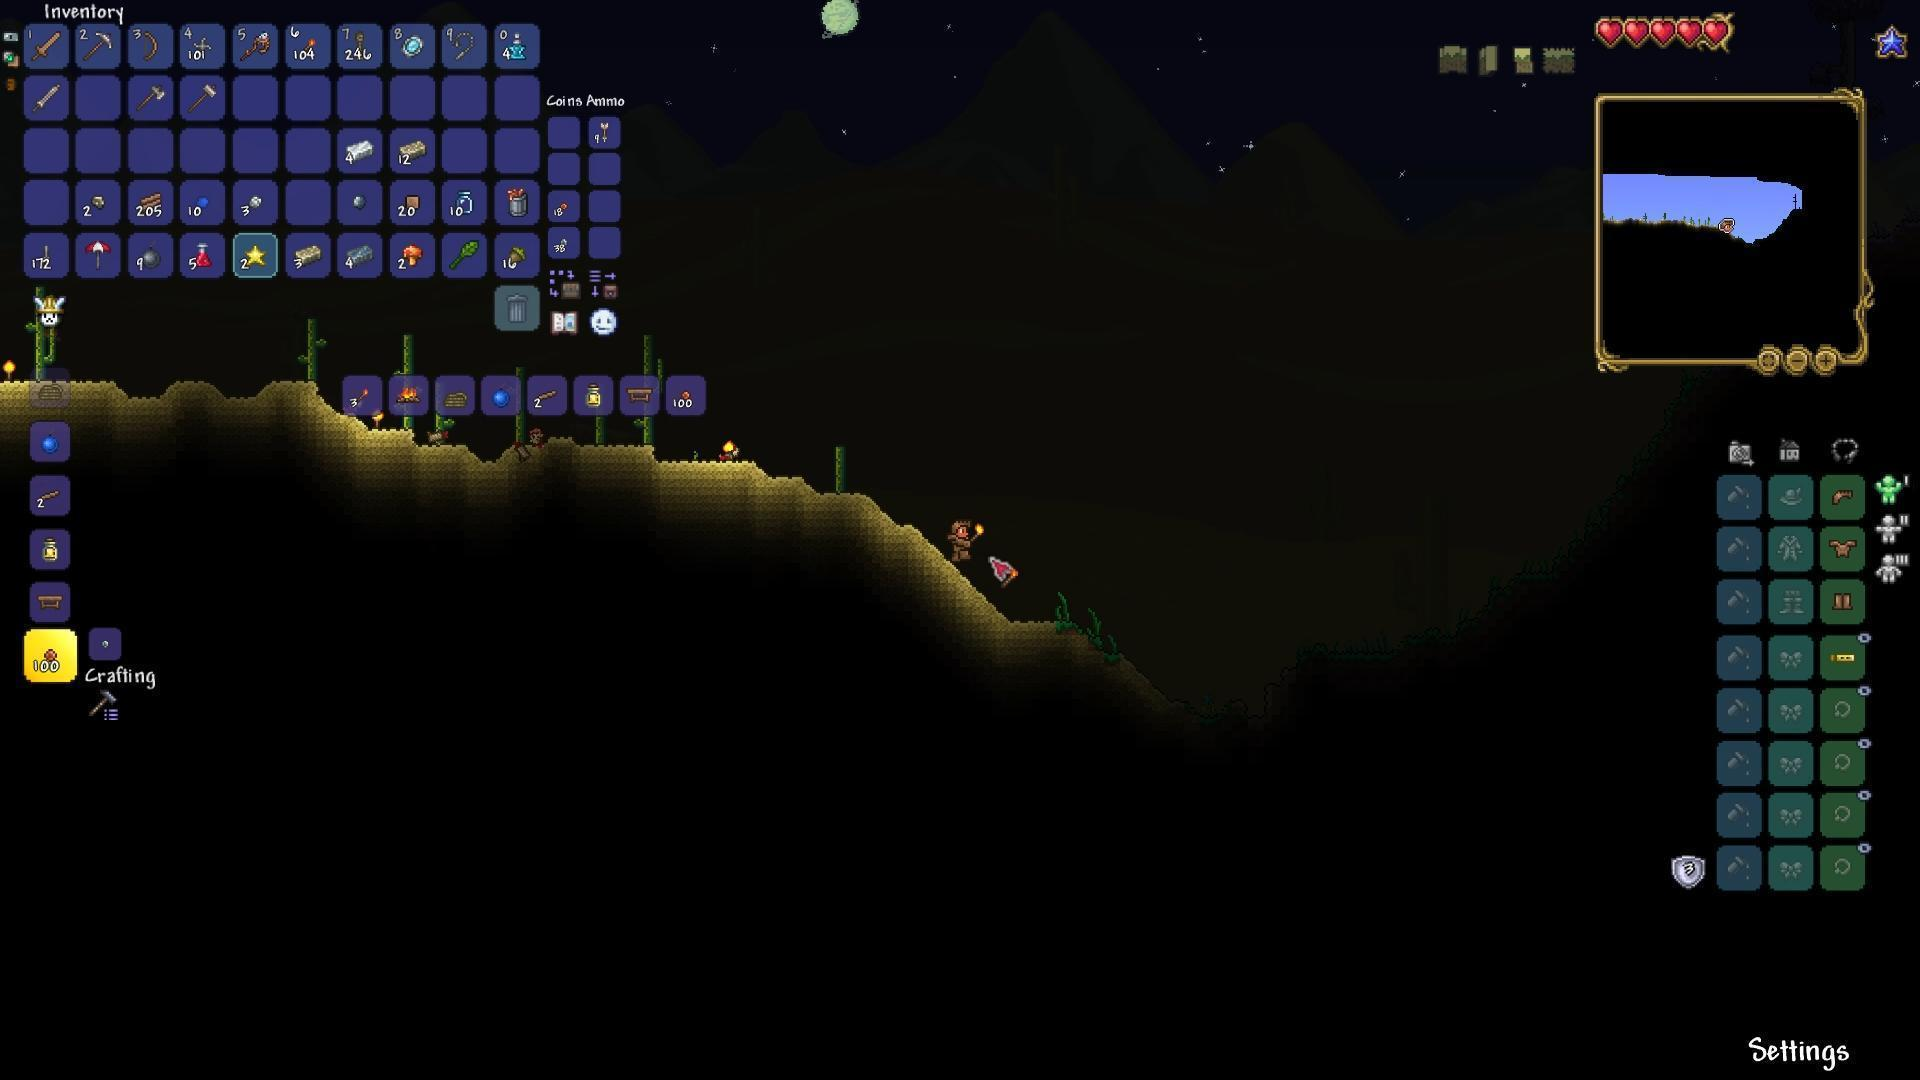axe: (133, 82, 166, 111)
bomb: (141, 245, 164, 272)
bow: (140, 29, 162, 62)
breastplate: (1829, 538, 1858, 559)
gel: (193, 195, 216, 211)
heart: (1648, 17, 1677, 50), (1623, 16, 1651, 50), (1594, 17, 1625, 47), (1702, 17, 1727, 47), (1679, 18, 1702, 47)
helmet: (1832, 489, 1854, 506)
knife: (41, 243, 50, 262)
legs: (1832, 592, 1855, 612)
pickaxe: (84, 29, 116, 61)
recallP: (506, 32, 530, 65)
rope: (351, 32, 365, 61)
shuriken: (193, 36, 212, 57)
workbench: (36, 589, 65, 611), (626, 382, 657, 402)
